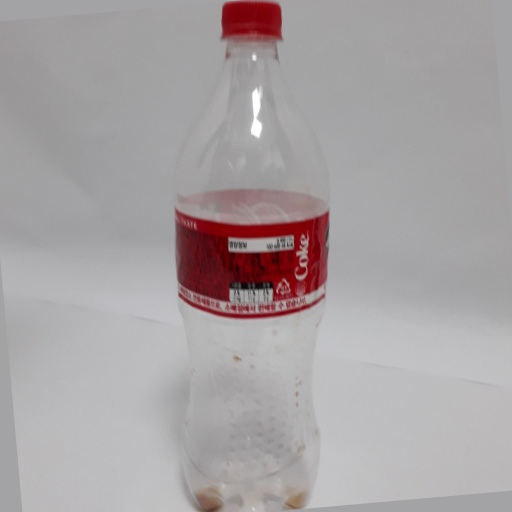Plastic_0: (166, 2, 336, 512)
